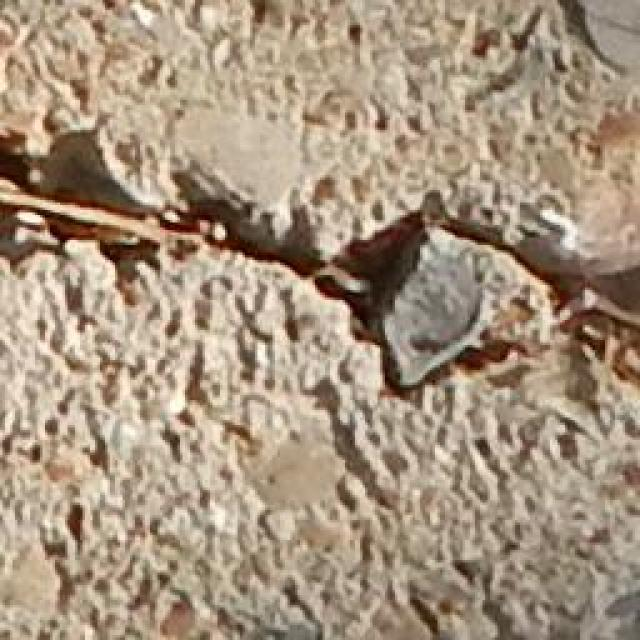concrete-crack: (0, 129, 640, 402)
